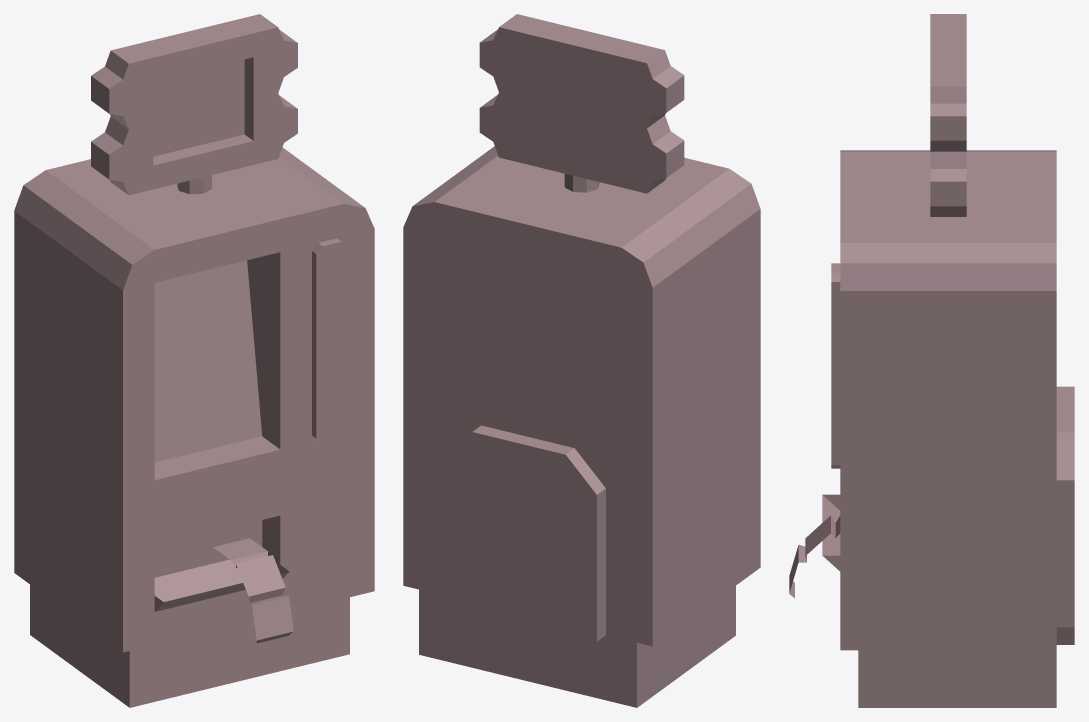
Rendered from ticket-machine.obj.
3 views of the same model, side by side, from view 1: azimuth 30°, elevation 25°; view 2: azimuth 150°, elevation 25°; view 3: azimuth 270°, elevation 25° (orthographic).
Bounding box in the file's own units: 0.4 × 0.925 × 0.3958.
